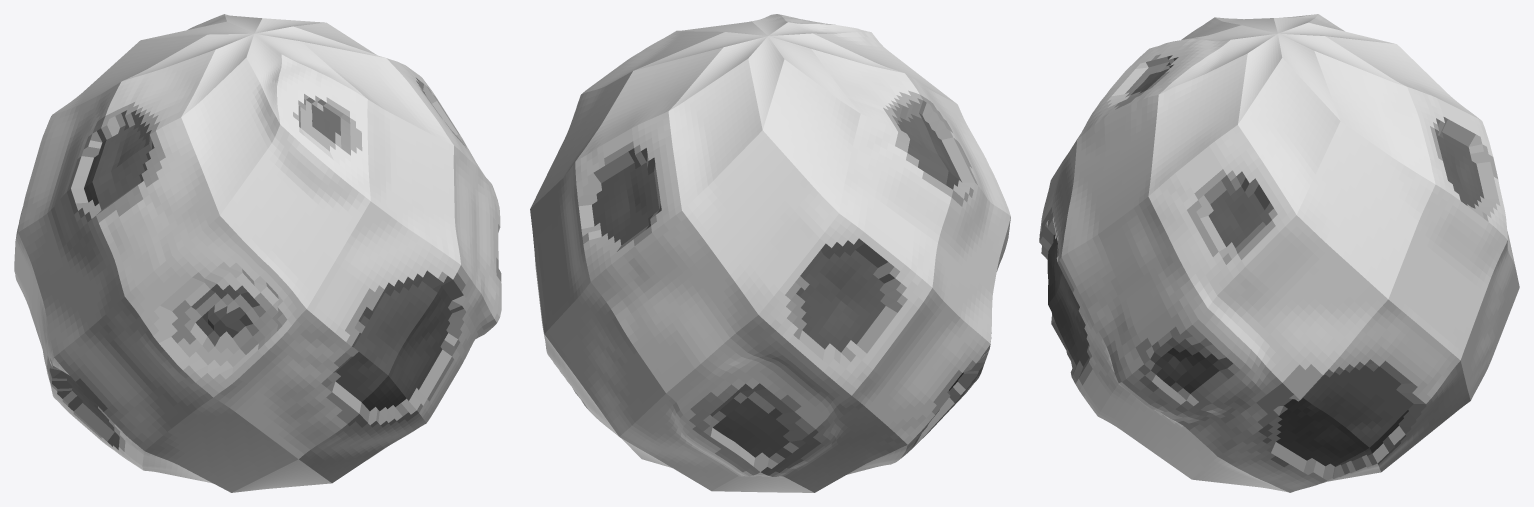
Rendered from Moon.fbx.
The picture shows the model from 3 angles, left to right: view 1: azimuth 30°, elevation 25°; view 2: azimuth 150°, elevation 25°; view 3: azimuth 270°, elevation 25°; orthographic projection.
Visible parts, largest first — view 1: Moon; view 2: Moon; view 3: Moon.
Part boxes in pixels (box(x1,y1,x2,y2)): Moon: box(14, 14, 501, 492); Moon: box(530, 14, 1010, 492); Moon: box(1039, 14, 1519, 492).
Size of the model in its own units: 201 by 200 by 198.
